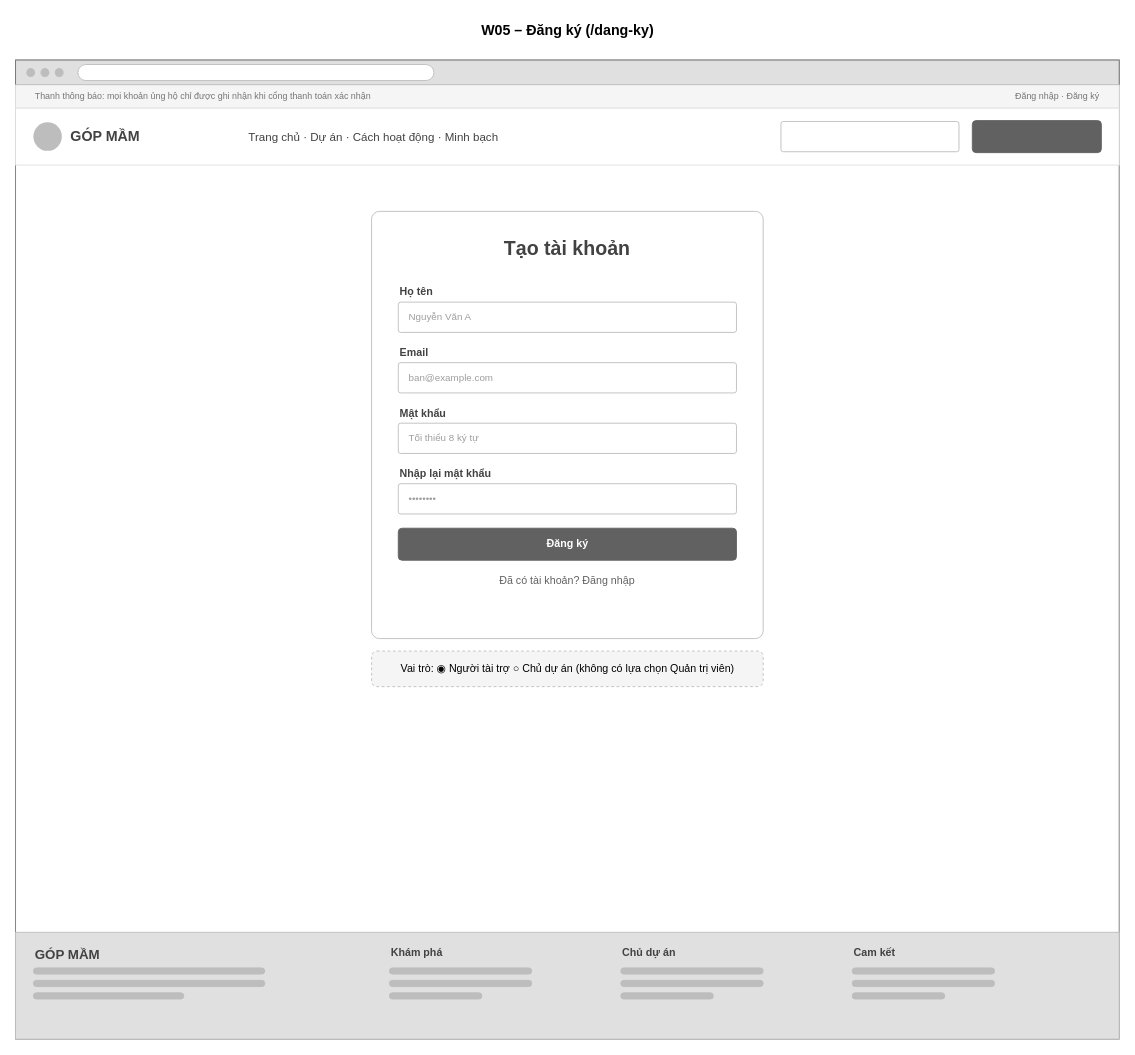
This 1135x1055 diagram has some shape labels left out. The centre of each missing label's shape, as x and y in pixels:
"https://gopmam.com" goes at (255,72).
"Tìm dự án…" goes at (869,136).
"Tạo chiến dịch" goes at (1036,136).
